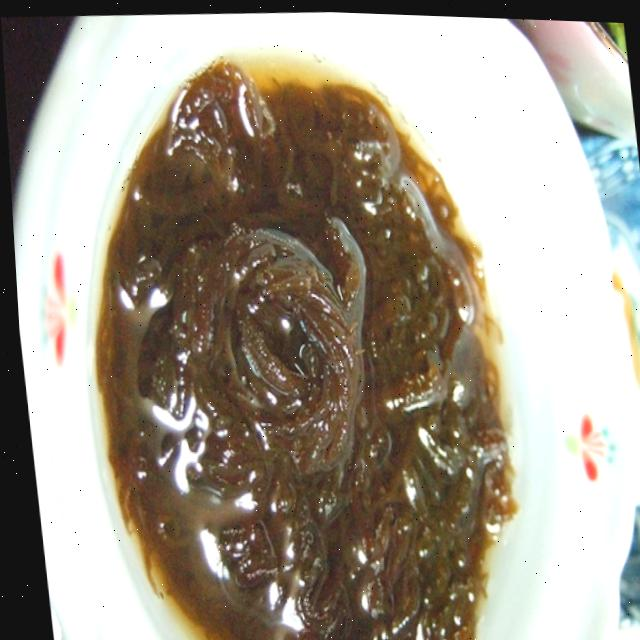蔬菜料理: (53, 19, 639, 640)
